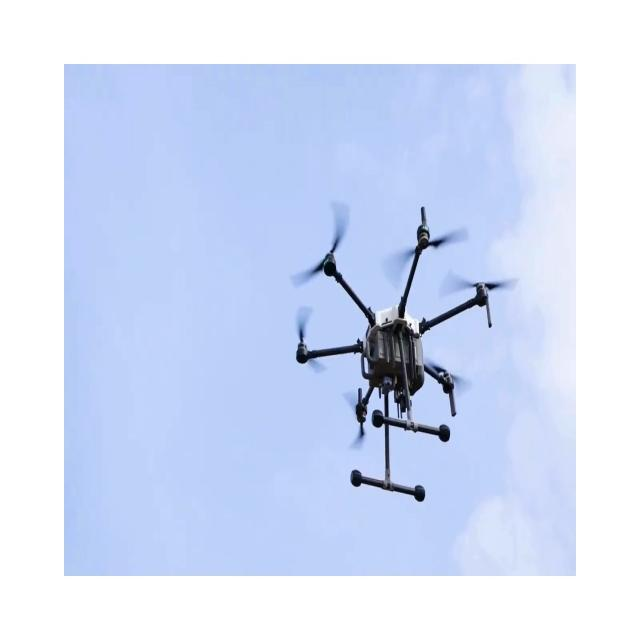drone: (290, 201, 519, 502)
